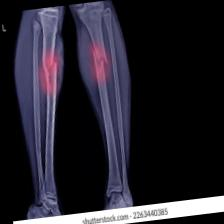open-compound-fracture: (0, 0, 145, 219)
